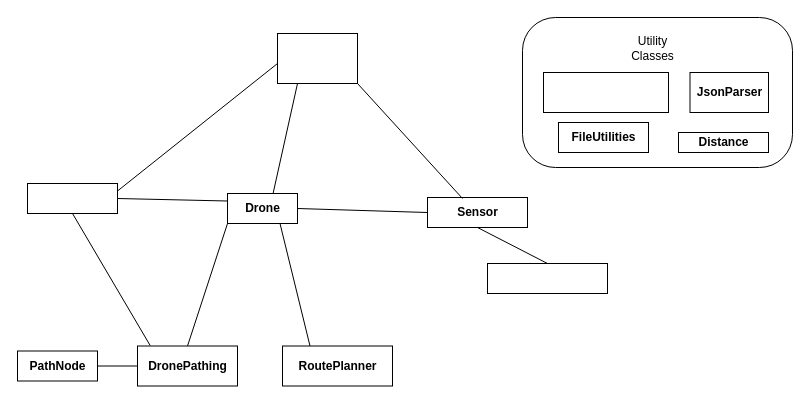
Image size: 810x404. Some labels were removed from this diagram. Each missing label, with the box of its shape:
App: (276, 32, 358, 84)
GeoJsonDeserialiser: (542, 72, 668, 112)
NoFlyZone: (26, 182, 118, 214)
What3WordDetails: (486, 262, 608, 294)
